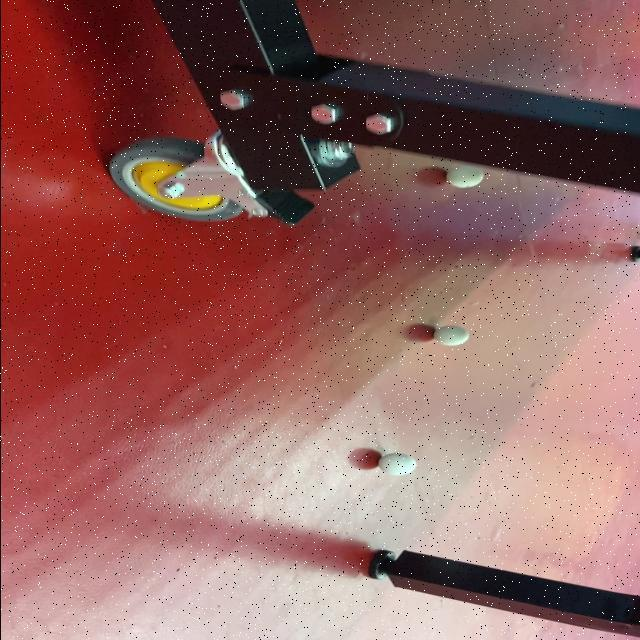ping-pong-ball: (441, 162, 488, 190), (373, 452, 421, 479), (430, 322, 474, 347)
